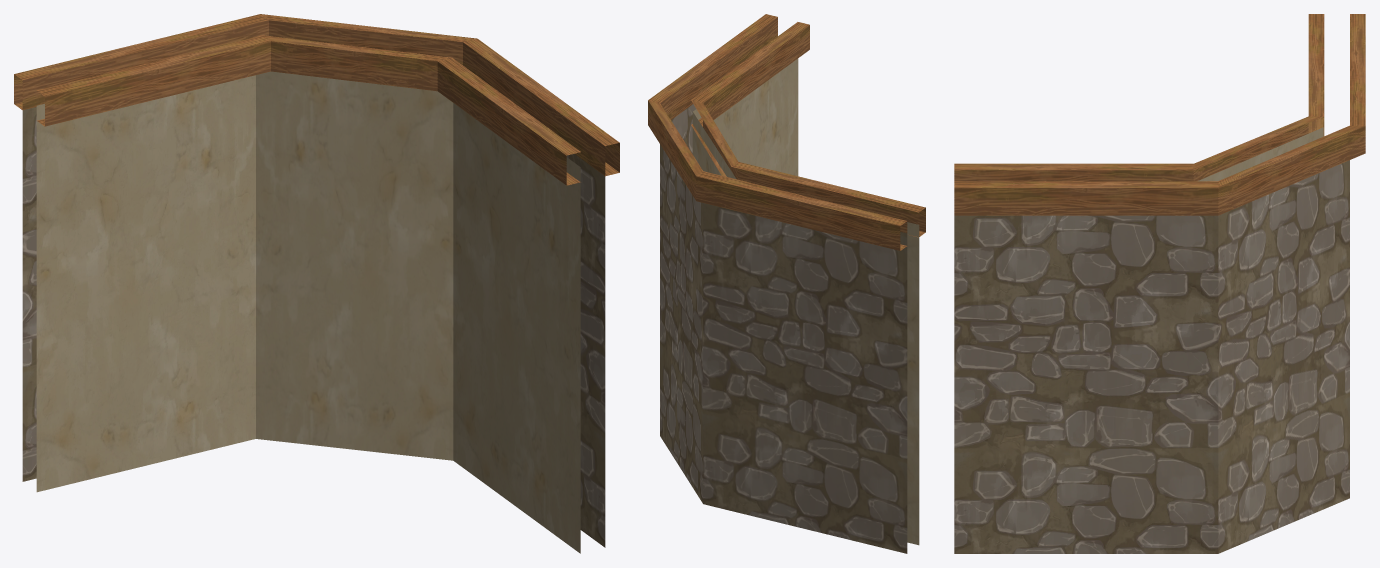
File: Overhang_UnevenBrick_Corner_Front.gltf
3 views of the same model, side by side, from view 1: azimuth 30°, elevation 25°; view 2: azimuth 150°, elevation 25°; view 3: azimuth 270°, elevation 25° (orthographic). The views are drawn at different scales.
Parts seen in each view (by area): view 1: Overhang_UnevenBrick_Corner_Front; view 2: Overhang_UnevenBrick_Corner_Front; view 3: Overhang_UnevenBrick_Corner_Front.
Boxes of the visible parts, x1,y1,x2,y2 form: Overhang_UnevenBrick_Corner_Front: (14,14,619,553); Overhang_UnevenBrick_Corner_Front: (648,14,925,553); Overhang_UnevenBrick_Corner_Front: (954,14,1365,553).
Size of the model in its own units: 3.12 by 3.12 by 3.12.
3 materials, 3 textured.
